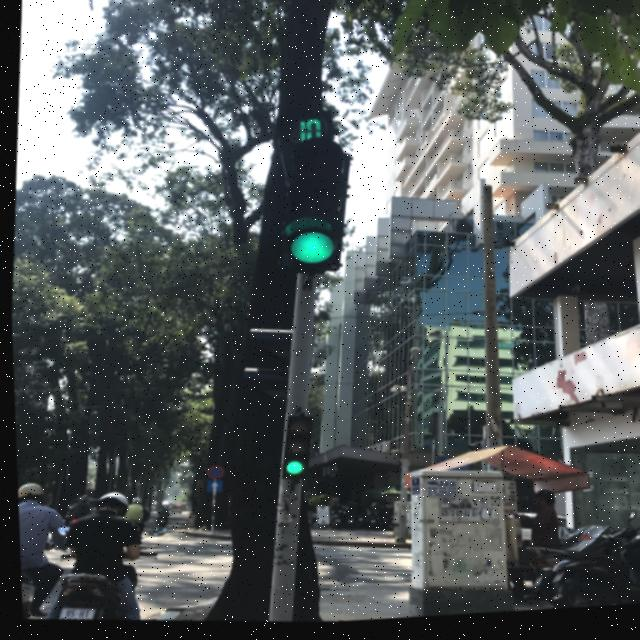Green: (265, 145, 360, 285), (265, 403, 313, 483)
